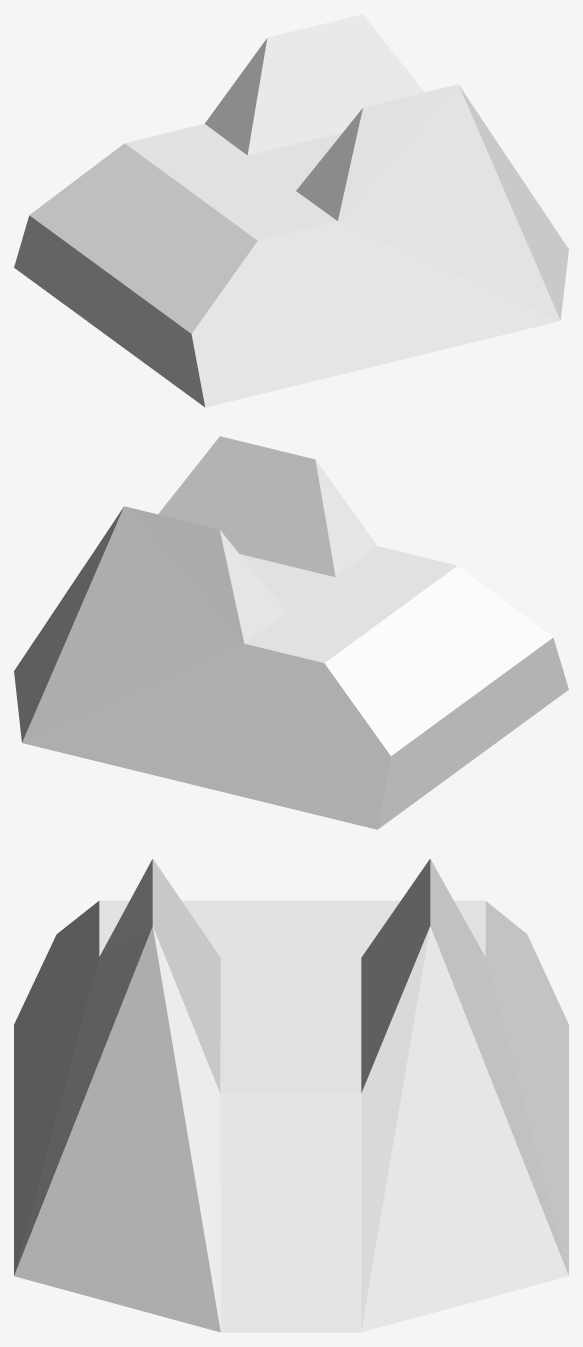
File: core.obj
3 renders of one model, top to bottom at view 1: azimuth 30°, elevation 25°; view 2: azimuth 150°, elevation 25°; view 3: azimuth 270°, elevation 25°, orthographic. The views are drawn at different scales.
Parts seen in each view (by area): view 1: baseOnCore_立方体.001; view 2: baseOnCore_立方体.001; view 3: baseOnCore_立方体.001.
Boxes of the visible parts, <box> form: baseOnCore_立方体.001: <box>14,14,568,407</box>; baseOnCore_立方体.001: <box>14,436,568,829</box>; baseOnCore_立方体.001: <box>14,859,568,1332</box>.
Bounding box in the file's own units: 0.7419 × 0.3503 × 0.5652.
1 material, 1 textured.
